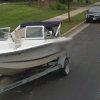Boat: (1, 23, 77, 75)
